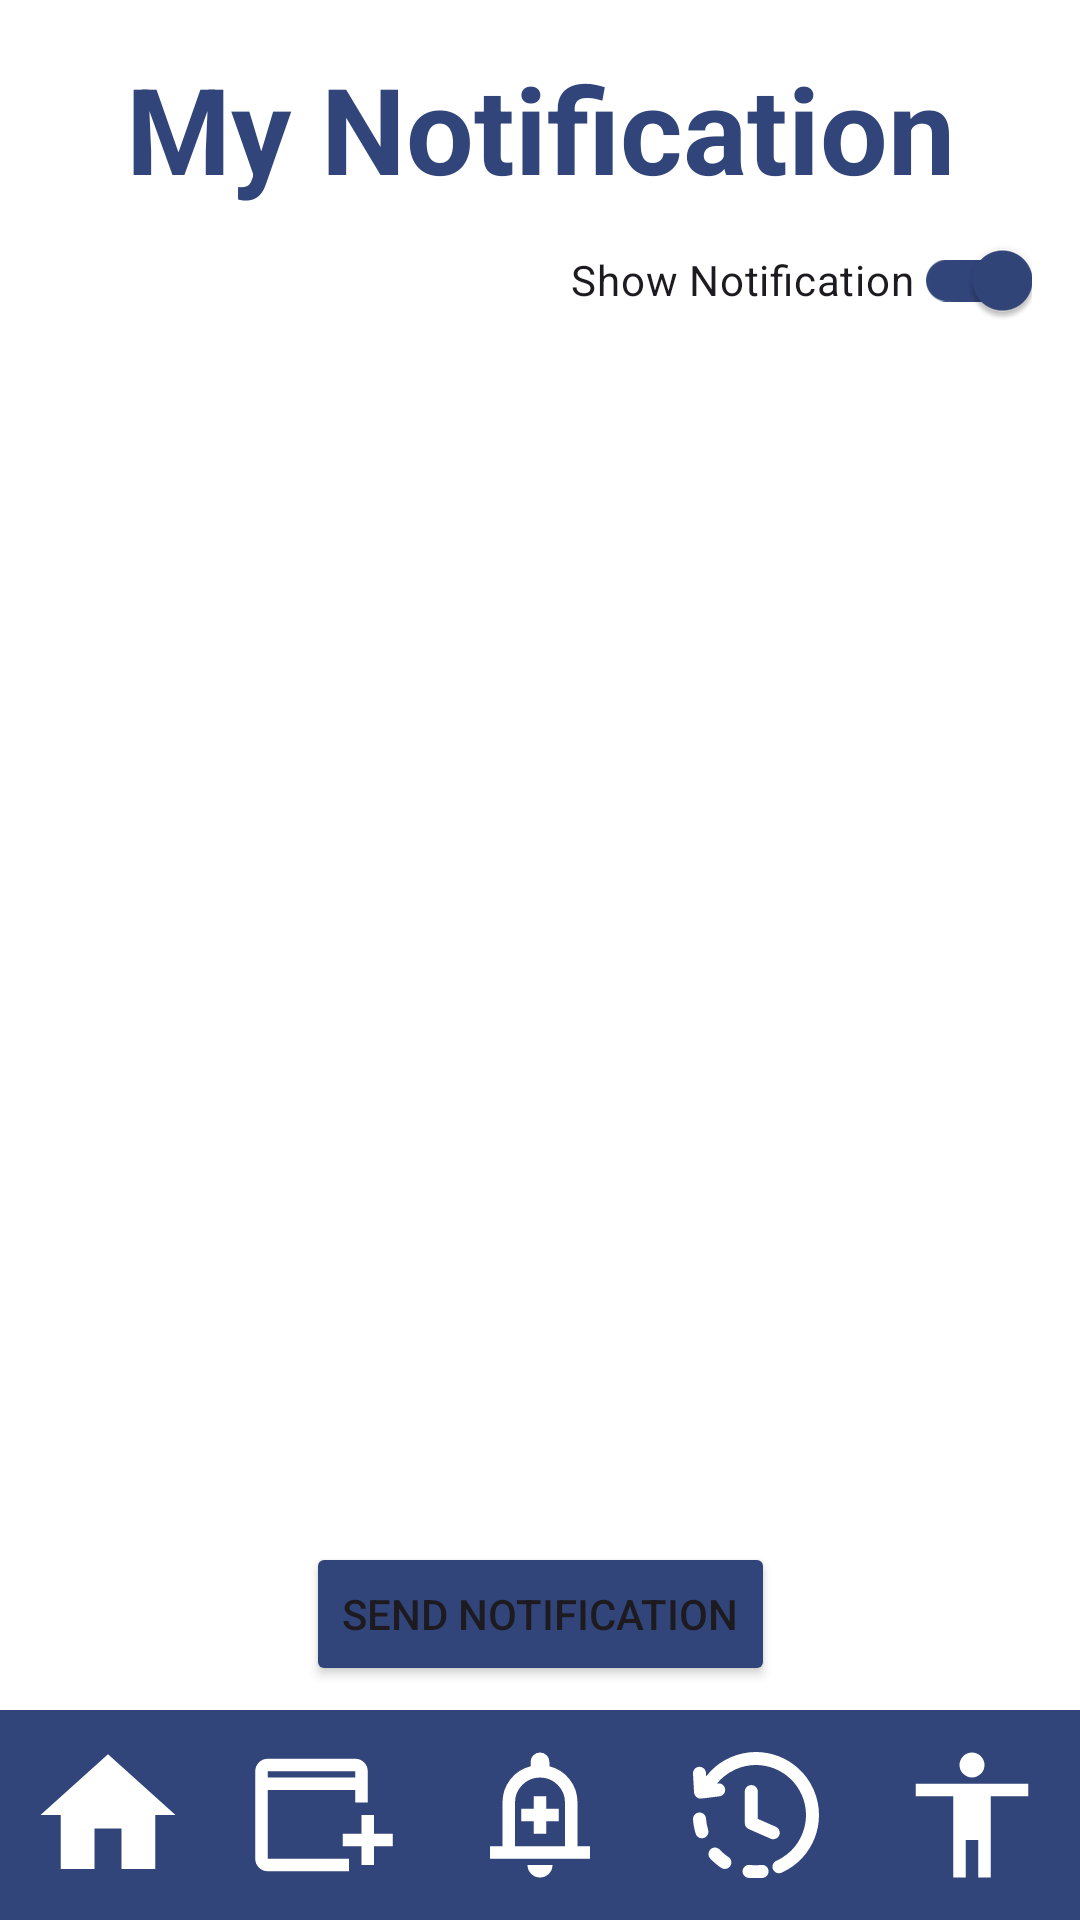

Where icons sit on this 1080x1920 app screen, as box=[x1, y1, x2, y2]:
event: box=[255, 1758, 393, 1872]
history: box=[693, 1752, 819, 1878]
home: box=[41, 1754, 175, 1869]
profile: box=[915, 1752, 1029, 1878]
